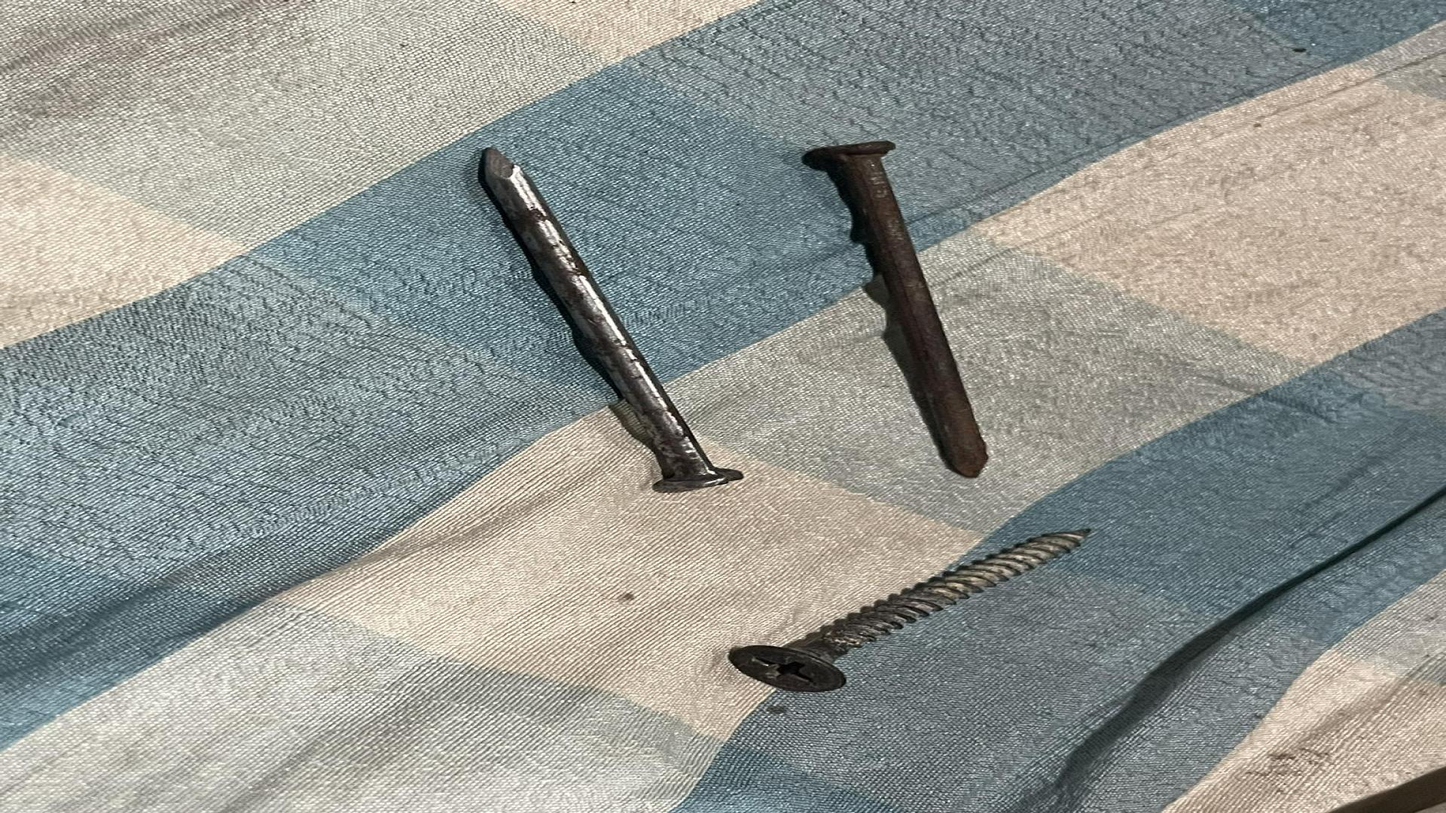nail: (424, 127, 766, 507), (788, 133, 1086, 487)
screw: (687, 524, 1164, 697)
